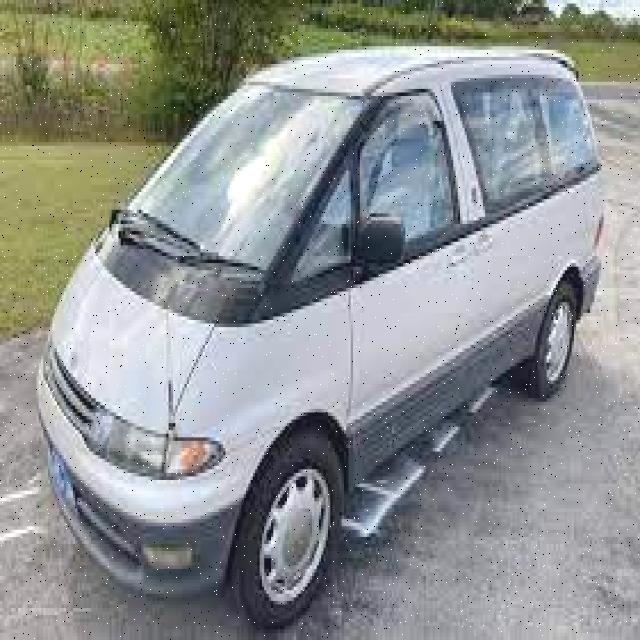Van: (28, 42, 610, 626)
